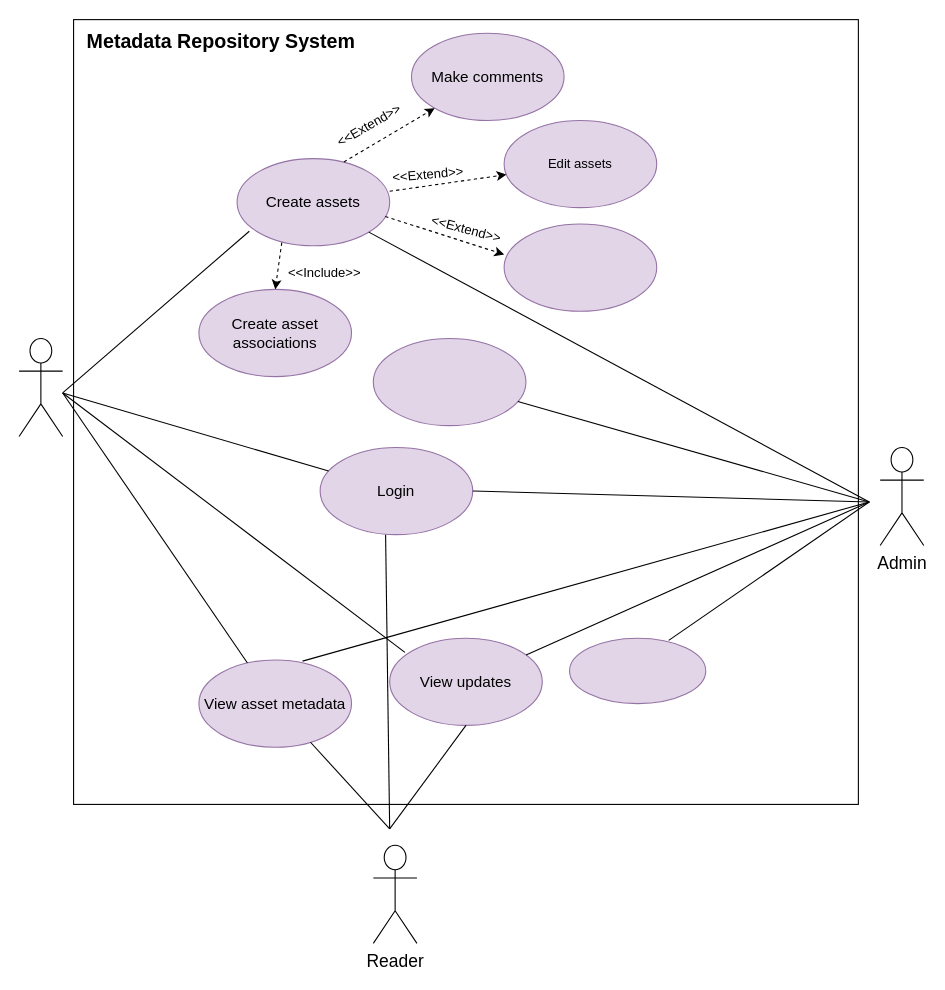
Image size: 945x990. Some labels were removed from this diagram. The box of each missing label's shape, as (x1, y1, x2, y2) in pixels:
Create new asset types: (372, 337, 526, 426)
Delete asset types: (568, 637, 706, 704)
Delete assets: (503, 223, 657, 311)
User: (18, 337, 63, 437)
